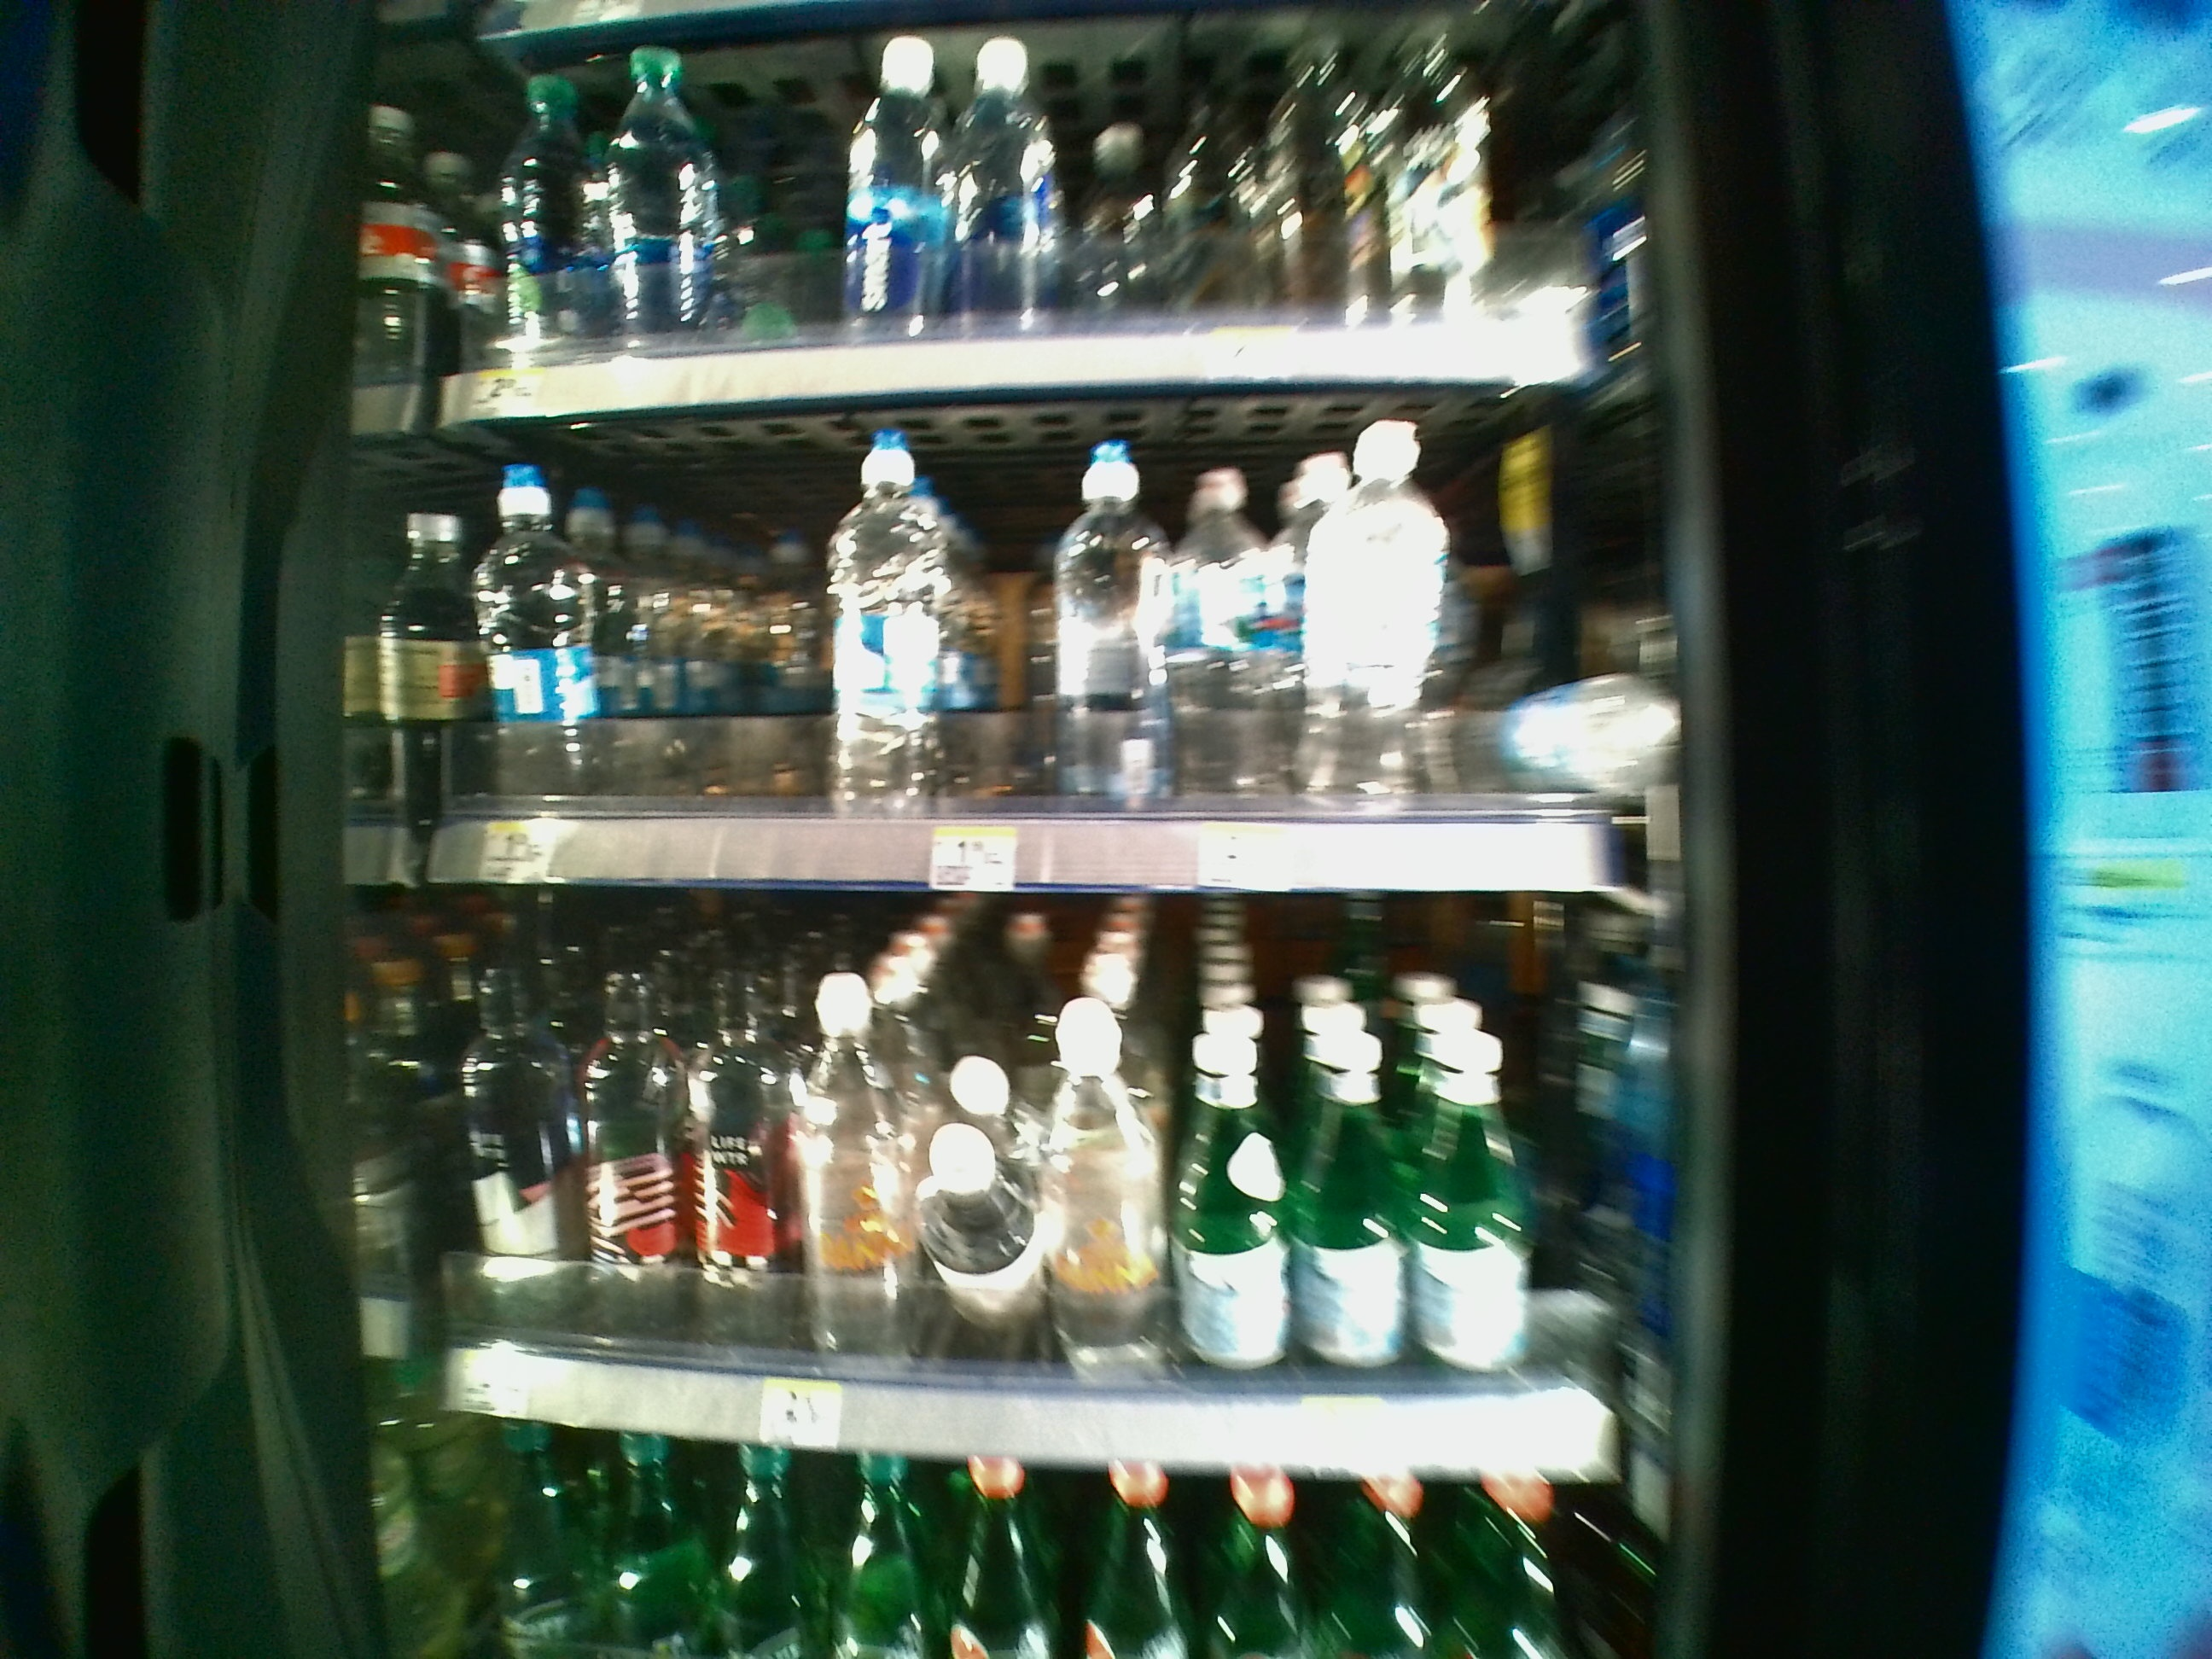shelf: (401, 884, 1662, 1490), (404, 422, 1655, 889)
